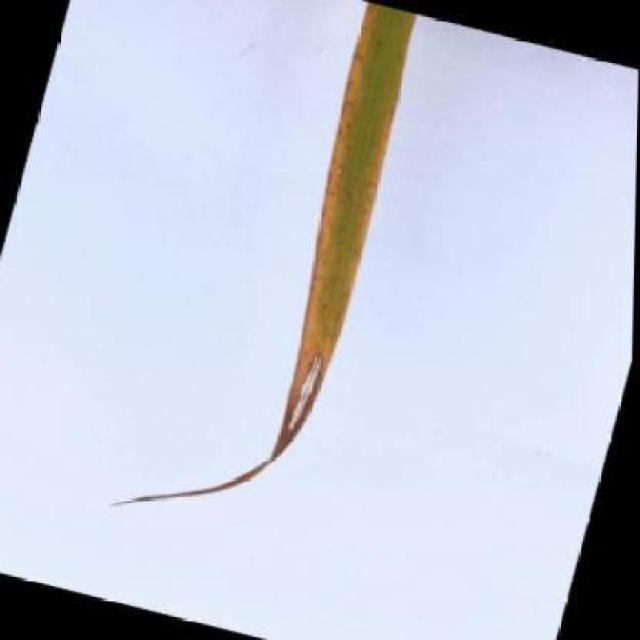Rice False Smut: (162, 0, 429, 585)
